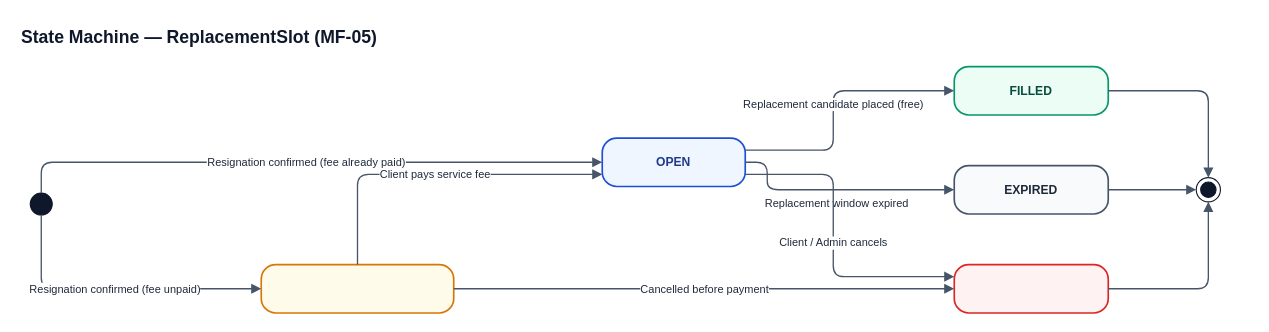
This 1269x332 diagram has some shape labels left out. The shapes that lost their labels are listed below. From the top down, each one's box as (x1, y1, x2, y2) in pixels, then its label:
(260, 263, 454, 313): WAITING_PAYMENT
(953, 263, 1109, 313): CANCELLED
